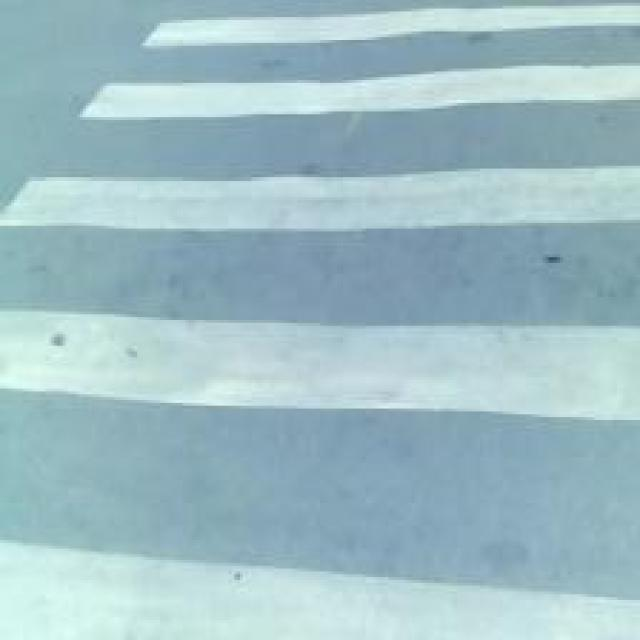walk-crossing: (24, 17, 633, 640)
